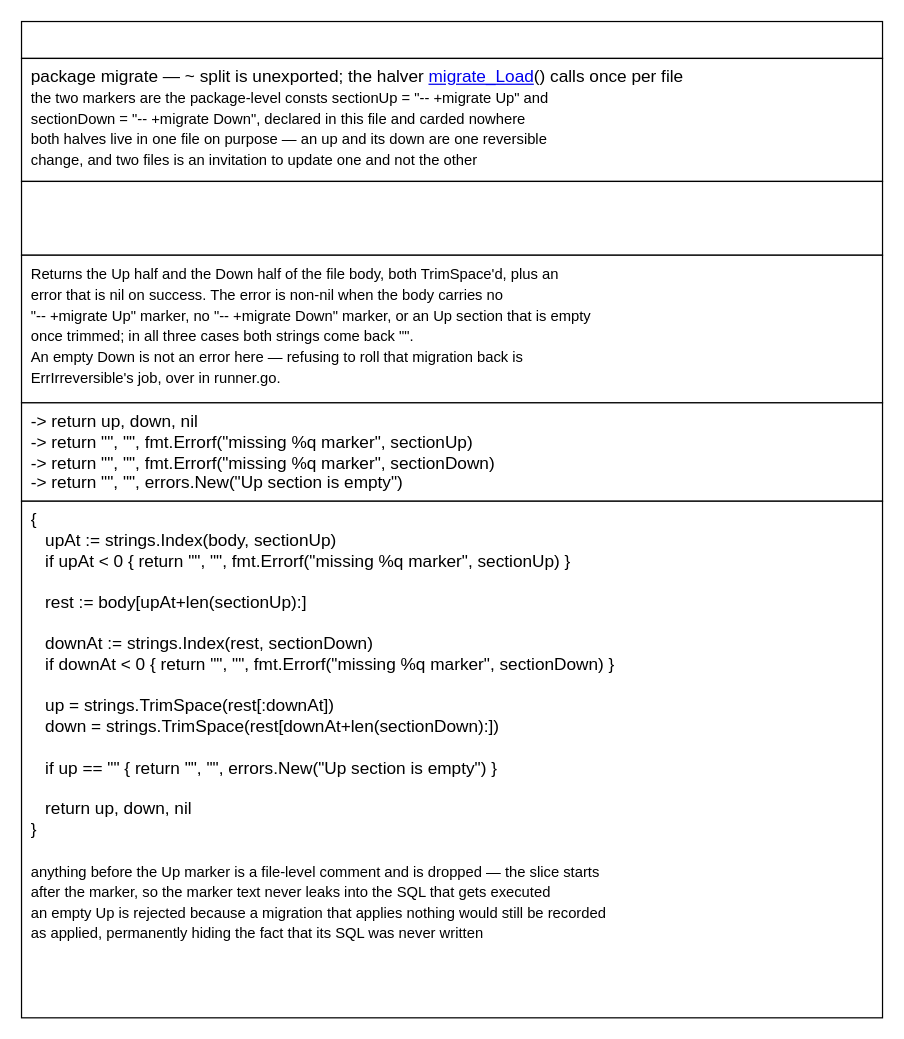
The diagram is 904 pixels wide and 1039 high, and some of its shapes have lost their labels. The shapes that lost their labels are listed below. From the top down, each one's centre as x and y in pixels, then its label:
[451,39]: LaminarFlow-Backend/internal/migrate/migrate.go
[451,217]: func split( body string ) (up, down string, err error)
